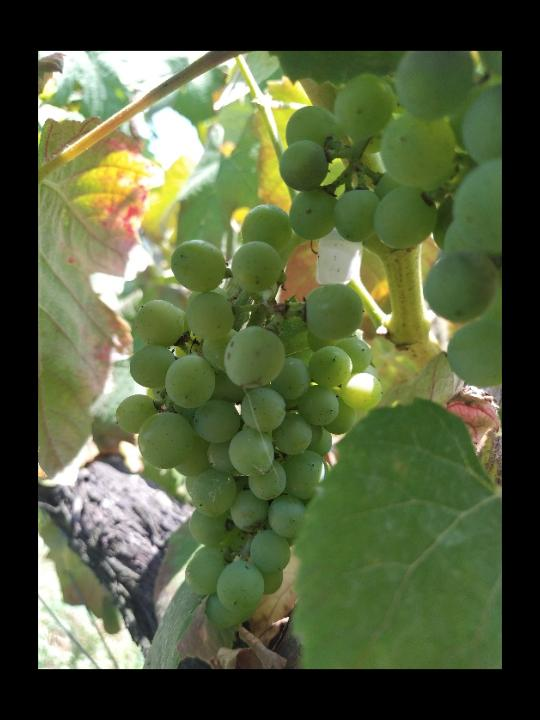grape: (114, 204, 386, 637)
